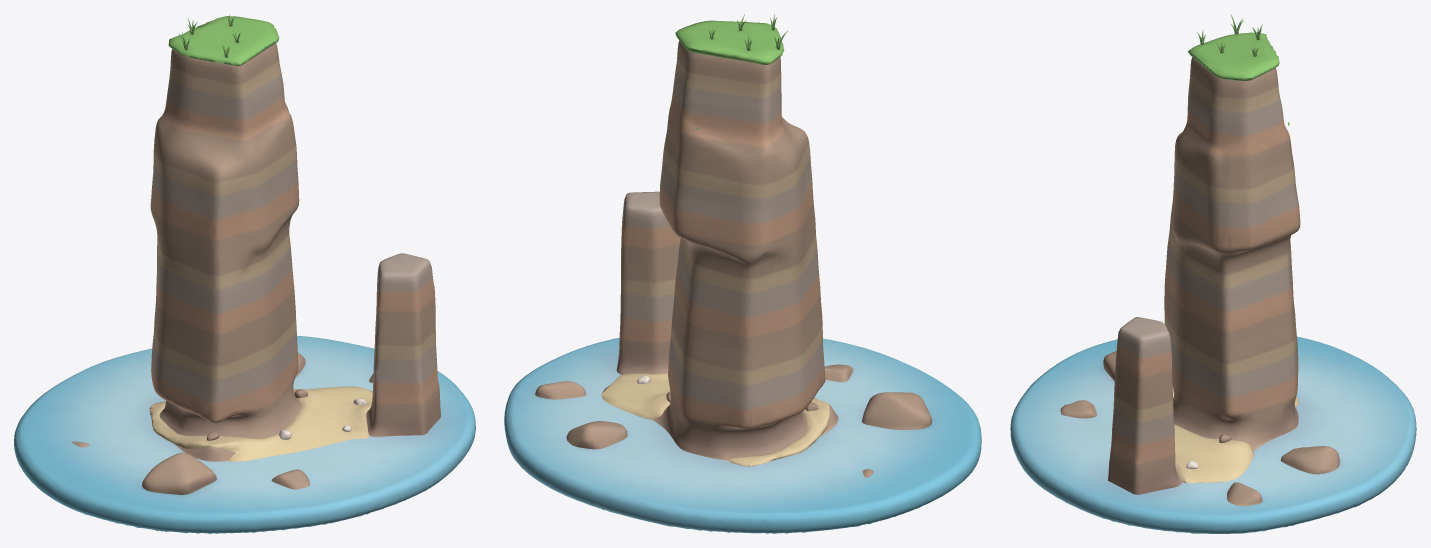
File: basalt-sea-stack.glb
3 renders of one model, left to right at view 1: azimuth 30°, elevation 25°; view 2: azimuth 150°, elevation 25°; view 3: azimuth 270°, elevation 25°, orthographic. The views are drawn at different scales.
Parts seen in each view (by area): view 1: sea-stack_body; view 2: sea-stack_body; view 3: sea-stack_body.
Boxes of the visible parts, x1,y1,x2,y2 form: sea-stack_body: (14, 14, 475, 533); sea-stack_body: (504, 14, 981, 533); sea-stack_body: (1010, 14, 1416, 533).
Bounding box in the file's own units: 6.55 × 6.34 × 5.81.
1 material, 1 textured.
